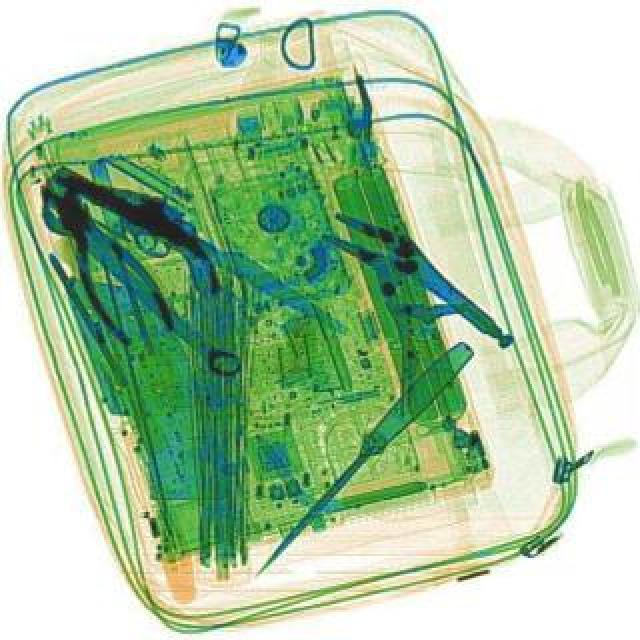gun: (26, 158, 246, 298)
knife: (240, 336, 478, 584), (48, 154, 356, 338)
scissors: (32, 184, 252, 390)
wrench: (30, 172, 184, 354)
